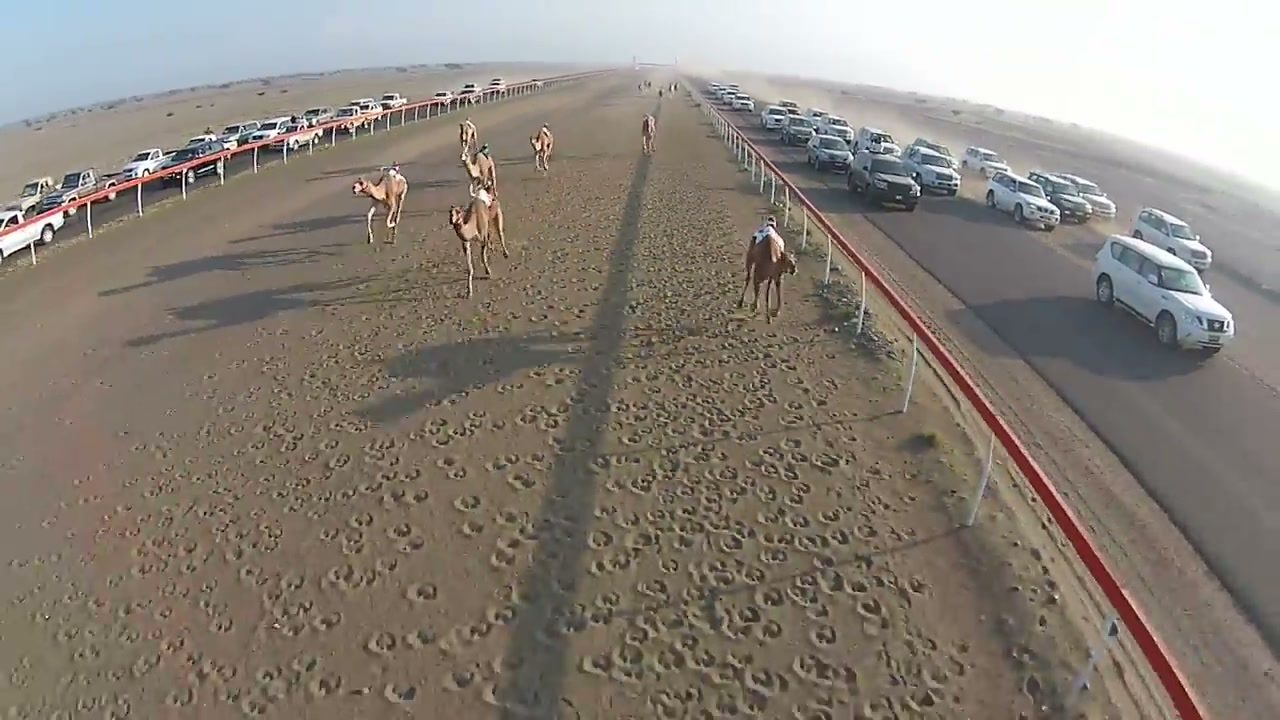animal_footprint: (0, 99, 1067, 717)
